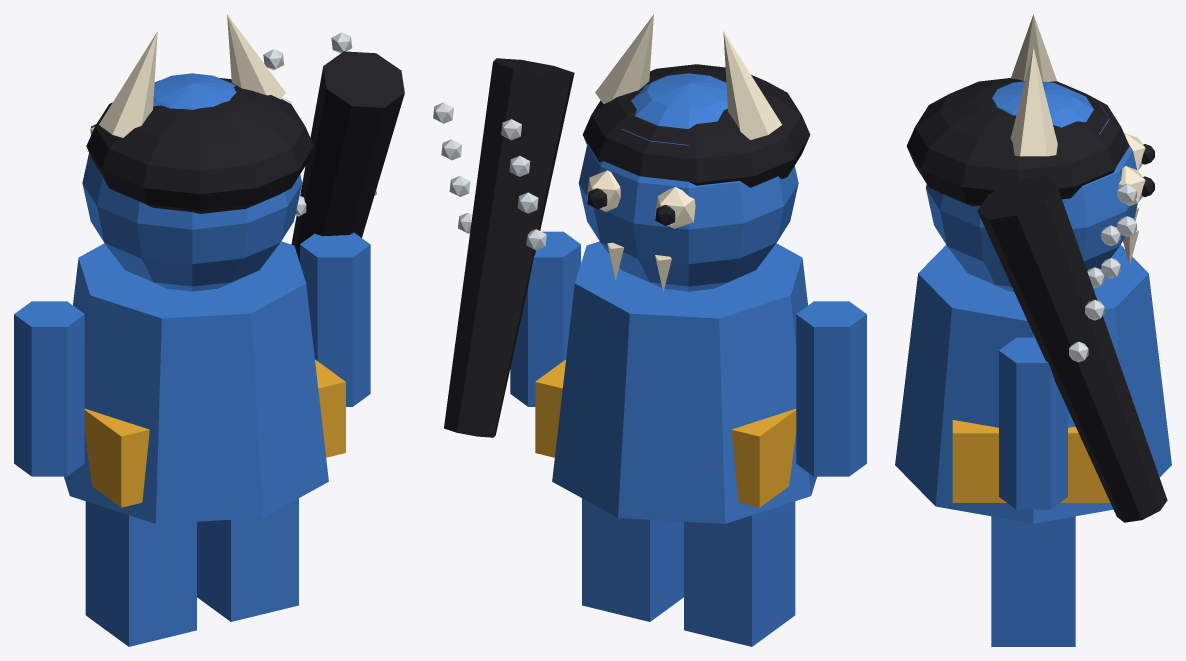
Rendered from oni.glb.
3 views of the same model, side by side, from view 1: azimuth 30°, elevation 25°; view 2: azimuth 150°, elevation 25°; view 3: azimuth 270°, elevation 25° (orthographic). The views are drawn at different scales.
Parts seen in each view (by area): view 1: Cone, Sphere.001, Sphere, Cone.005, Cube, Cylinder, Cube.001, Cylinder.001, Cube.002, Cone.001, Cone.003; view 2: Cone, Cone.005, Sphere, Sphere.001, Cube, Cylinder, Cube.001, Cylinder.001, Cube.002, Cone.001, Cone.003, Icosphere (+1 smaller); view 3: Cone, Cone.005, Sphere.001, Cube.001, Cylinder.001, Sphere, Cube.002, Cone.003, Cone.001, Icosphere.002.
Part boxes in pixels (x1=…): Cone: x1=64, y1=241, x2=328, y2=523; Sphere.001: x1=86, y1=77, x2=313, y2=213; Sphere: x1=82, y1=73, x2=302, y2=291; Cone.005: x1=291, y1=51, x2=404, y2=262; Cube: x1=85, y1=501, x2=196, y2=646; Cylinder: x1=14, y1=301, x2=84, y2=476; Cube.001: x1=197, y1=498, x2=298, y2=621; Cylinder.001: x1=300, y1=232, x2=370, y2=406; Cube.002: x1=84, y1=359, x2=345, y2=507; Cone.001: x1=99, y1=31, x2=157, y2=137; Cone.003: x1=227, y1=14, x2=285, y2=99; Cone: x1=552, y1=241, x2=816, y2=523; Cone.005: x1=444, y1=58, x2=574, y2=437; Sphere: x1=578, y1=73, x2=798, y2=291; Sphere.001: x1=582, y1=64, x2=810, y2=187; Cube: x1=684, y1=501, x2=795, y2=646; Cylinder: x1=796, y1=301, x2=866, y2=476; Cube.001: x1=582, y1=498, x2=683, y2=621; Cylinder.001: x1=510, y1=231, x2=580, y2=406; Cube.002: x1=535, y1=359, x2=796, y2=507; Cone.001: x1=723, y1=31, x2=781, y2=139; Cone.003: x1=595, y1=14, x2=653, y2=103; Icosphere: x1=654, y1=187, x2=695, y2=228; Cone: x1=895, y1=245, x2=1171, y2=523; Cone.005: x1=977, y1=175, x2=1167, y2=522; Sphere.001: x1=906, y1=78, x2=1129, y2=206; Cube.001: x1=991, y1=516, x2=1075, y2=646; Cylinder.001: x1=999, y1=337, x2=1067, y2=509; Sphere: x1=926, y1=81, x2=1137, y2=291; Cube.002: x1=952, y1=420, x2=1110, y2=502; Cone.003: x1=1010, y1=47, x2=1057, y2=156; Cone.001: x1=1010, y1=14, x2=1056, y2=81; Icosphere.002: x1=1118, y1=166, x2=1145, y2=206.
Size of the model in its own units: 1.1 by 1.65 by 0.72.
